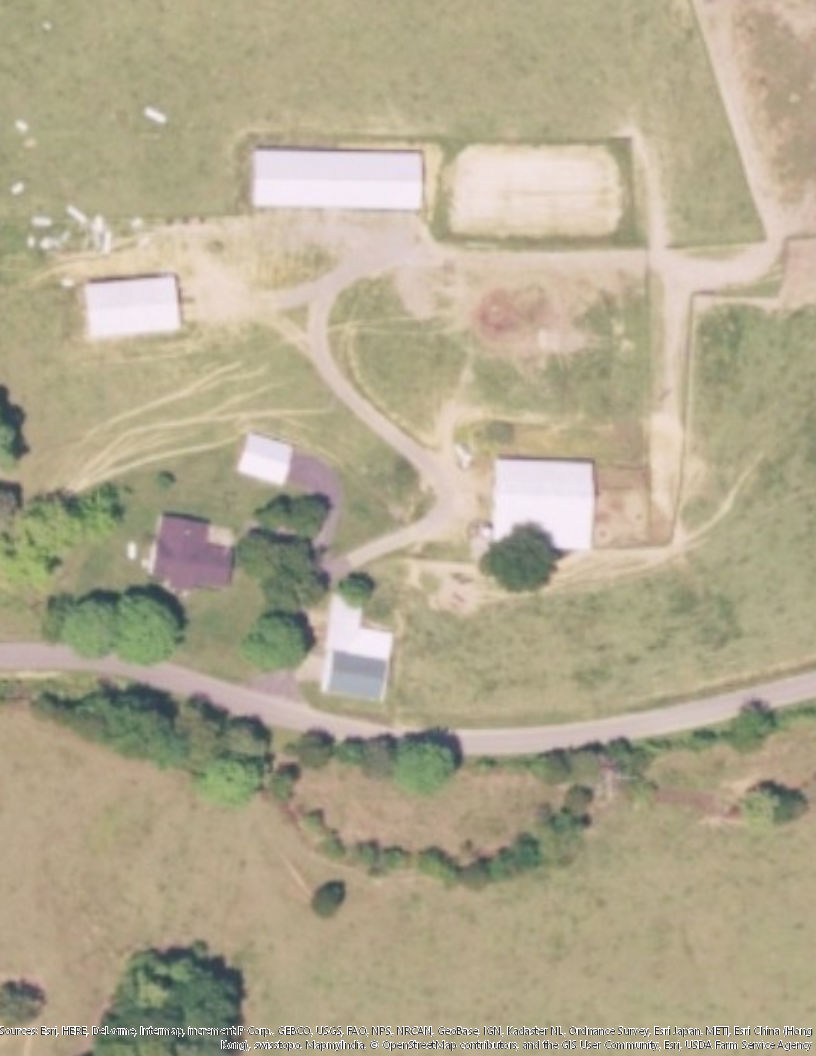cafo: (239, 141, 431, 214), (480, 453, 601, 565), (74, 263, 191, 335)
